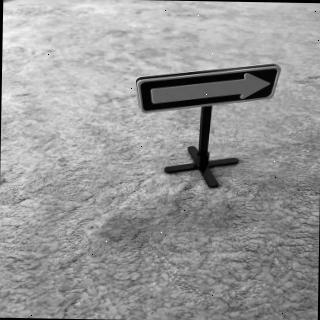sign_oneway_right: (135, 63, 283, 118)
